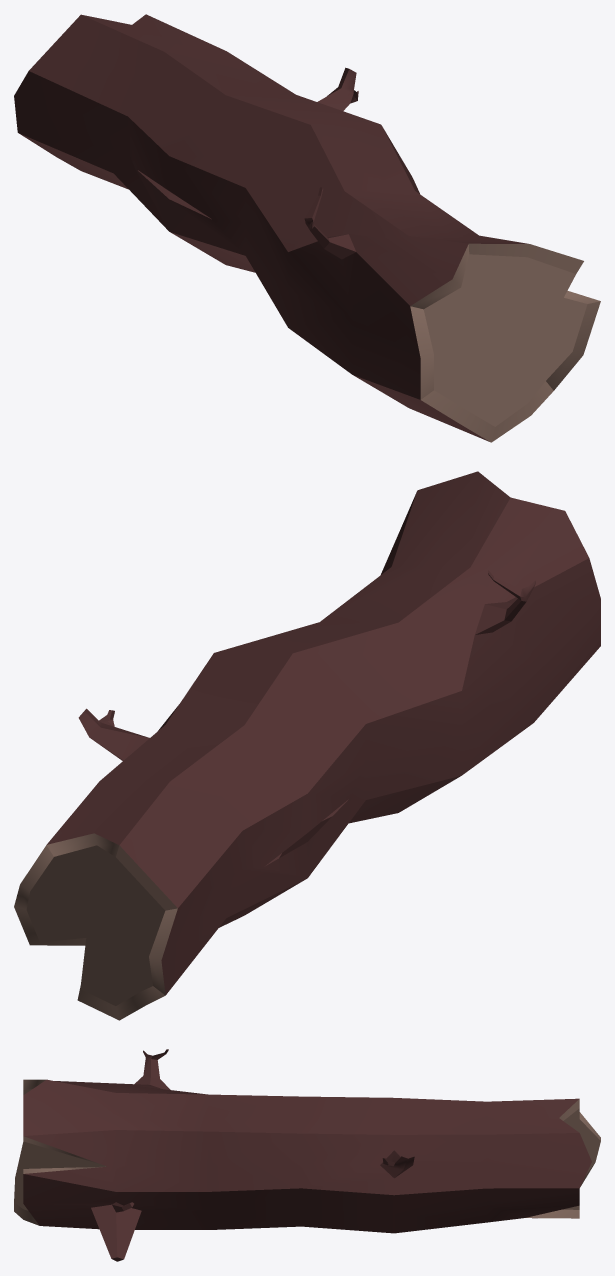
The model's file is log.fbx.
3 views of the same model, one above another, from view 1: azimuth 30°, elevation 25°; view 2: azimuth 150°, elevation 25°; view 3: azimuth 270°, elevation 25° (orthographic). The views are drawn at different scales.
Visible parts, largest first — view 1: pCylinder1; view 2: pCylinder1; view 3: pCylinder1.
Boxes of the visible parts, x1,y1,x2,y2 form: pCylinder1: (14, 14, 600, 442); pCylinder1: (14, 471, 600, 1020); pCylinder1: (14, 1049, 600, 1261).
Bounding box in the file's own units: 2.67 × 2.38 × 8.44.
